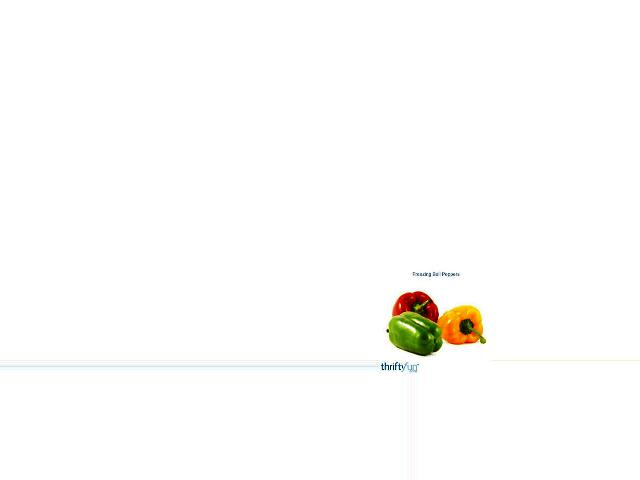bell_pepper: (385, 312, 446, 360)
